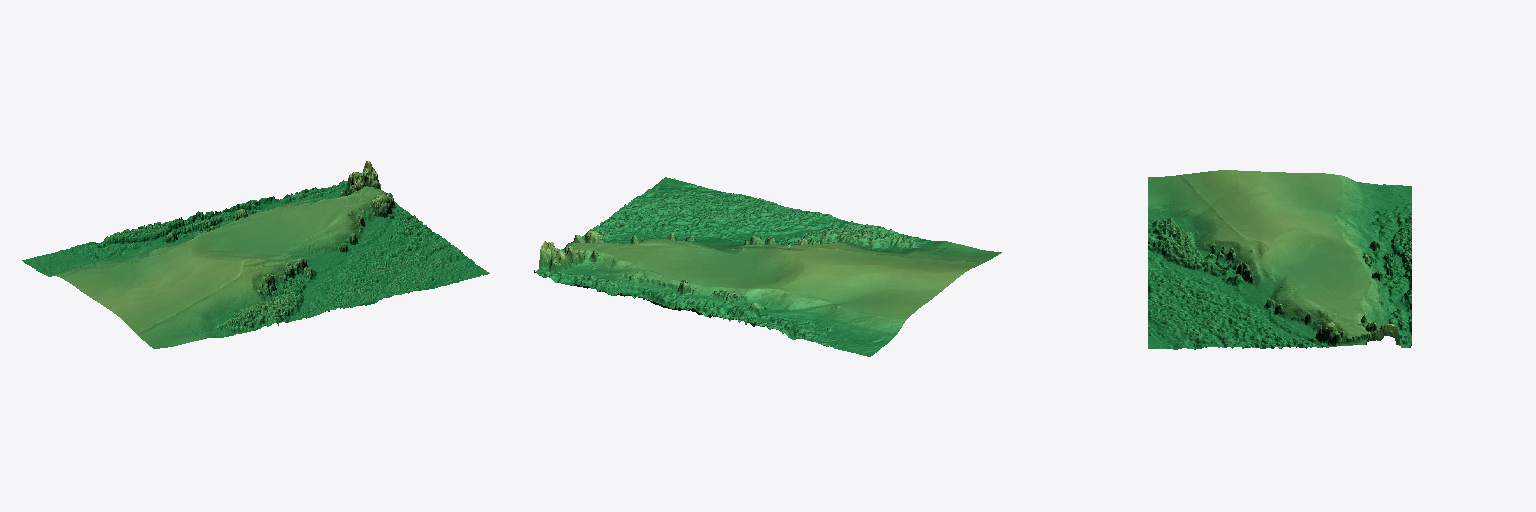
The picture shows the model from 3 angles: view 1: azimuth 30°, elevation 25°; view 2: azimuth 150°, elevation 25°; view 3: azimuth 270°, elevation 25°; orthographic projection.
Visible parts, largest first — view 1: Object_0; view 2: Object_0; view 3: Object_0.
Part boxes in pixels (x1,y1,x2,y2): Object_0: (22, 161, 489, 348); Object_0: (534, 177, 1001, 356); Object_0: (1148, 170, 1411, 349).
Bounding box in the file's own units: 0.4583 × 0.0364 × 0.3112.
1 materials, 1 textured.